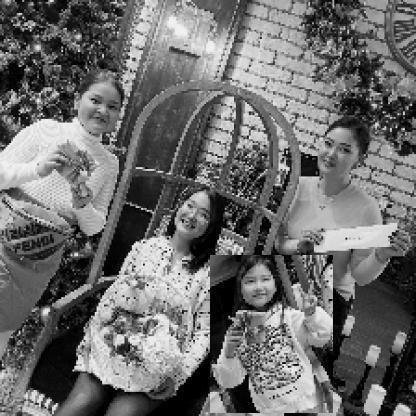child: (211, 256, 335, 415)
